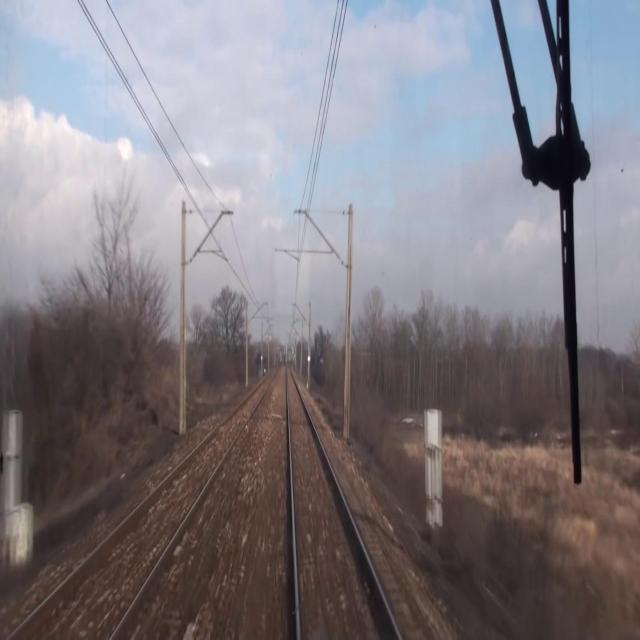rail-track: (13, 374, 272, 639), (288, 366, 397, 639)
